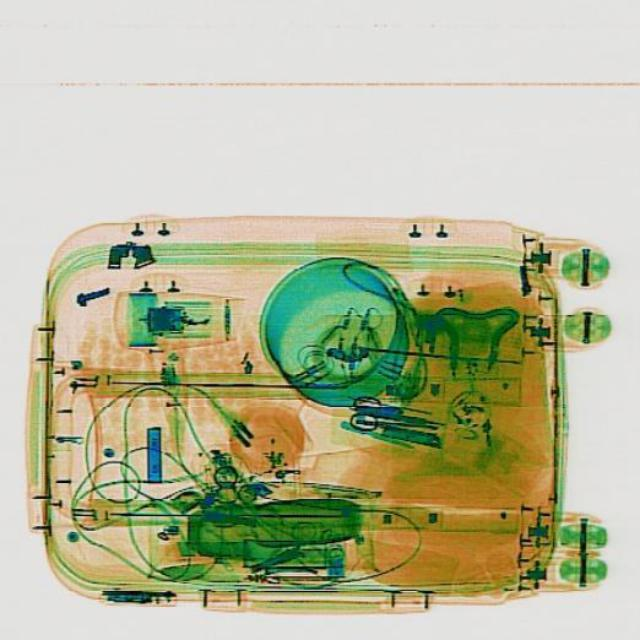Scissors: (348, 393, 440, 442)
